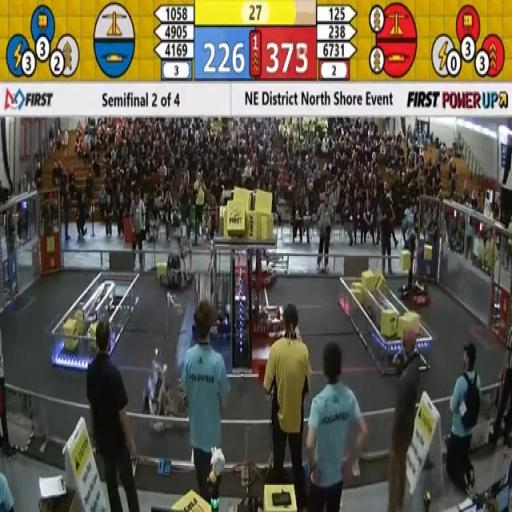robot: (190, 232, 235, 340), (246, 228, 286, 334), (143, 345, 191, 430), (396, 228, 432, 308), (158, 231, 196, 292), (248, 237, 278, 286)
